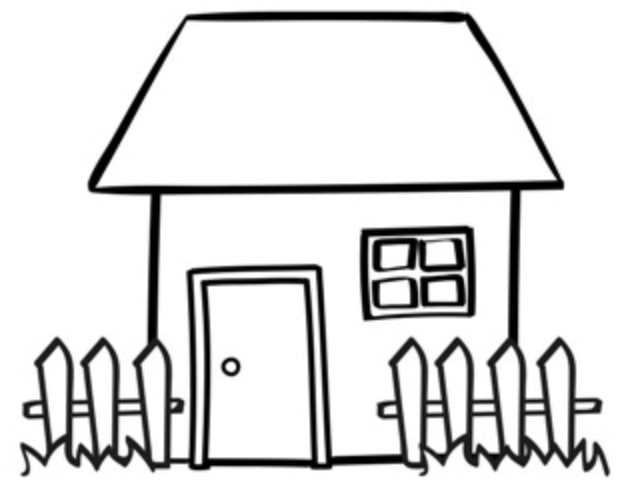House: (83, 1, 537, 467)
